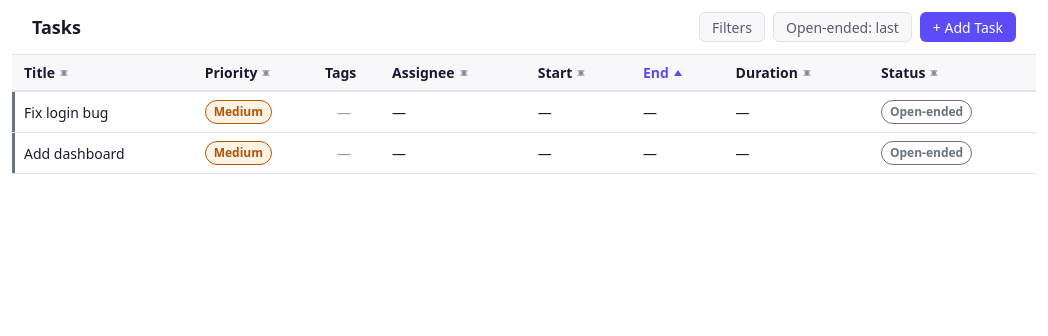
TaskList › filters by text search
This screenshot has width=1048, height=336.
Expected: the text "Fix login bug" is shown, [12,91,193,132]
Click the button "Filters". click: x=732, y=27
box: [699,12,765,42]
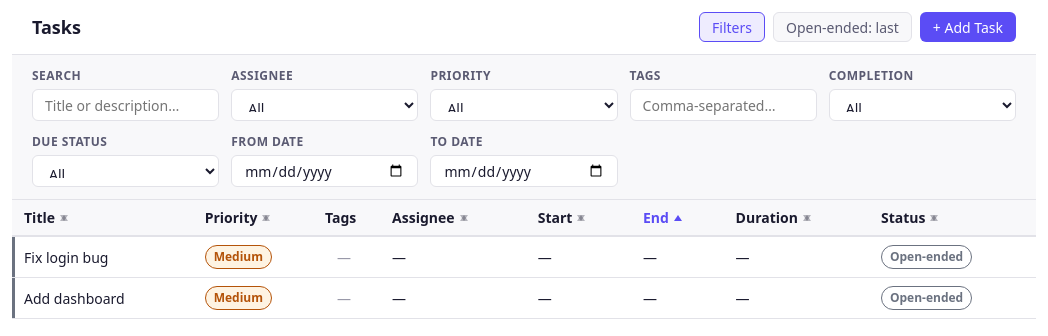
Type "login" into the search field with placeholder "Title or description…". click: x=126, y=105
box: [32,89,219,121]
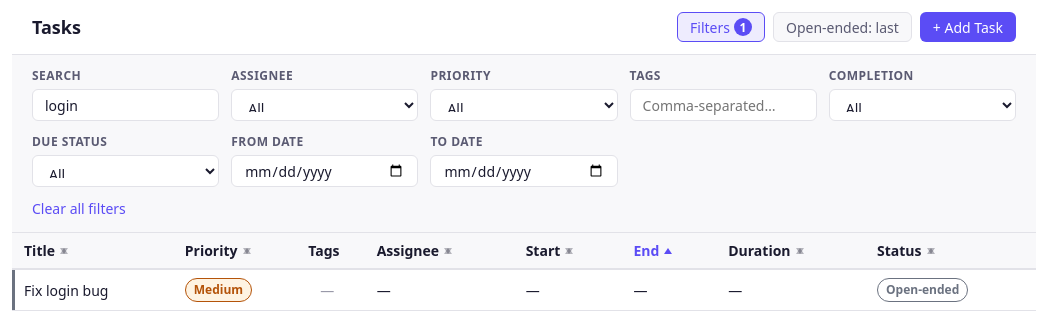
Expected: the text "Fix login bug" is shown, [12,269,173,310]
Expected: the text "Add dashboard" is gone
